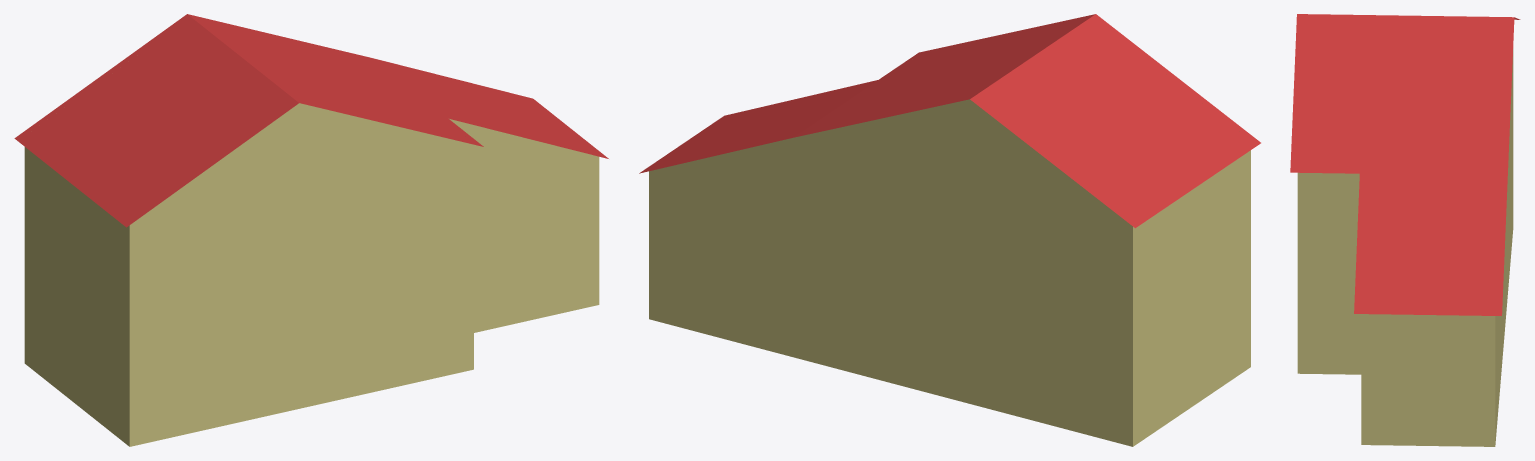
3 views of the same model, side by side, from view 1: azimuth 30°, elevation 25°; view 2: azimuth 150°, elevation 25°; view 3: azimuth 270°, elevation 25° (orthographic). The views are drawn at different scales.
Size of the model in its own units: 19.43 by 8.25 by 11.13.
